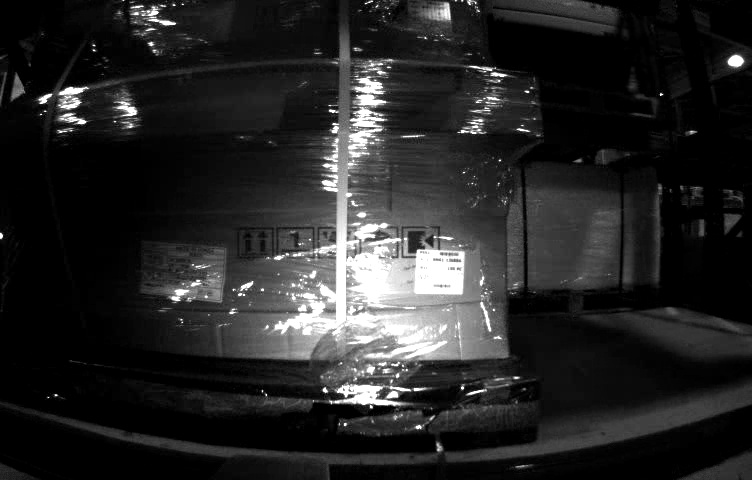True Barcode: (414, 246, 467, 296)
